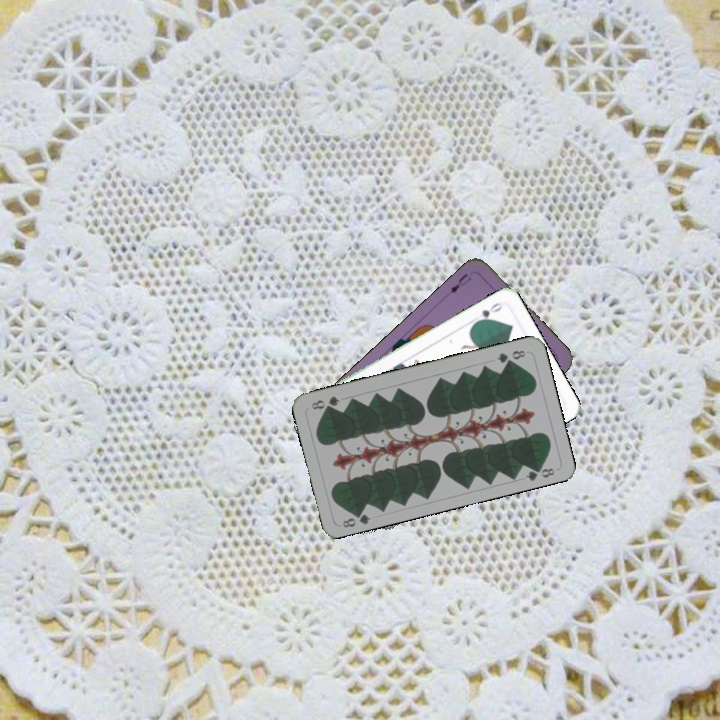EU: (446, 269, 474, 296)
G8: (338, 506, 373, 530), (492, 346, 528, 366)
GO: (470, 298, 505, 327)
